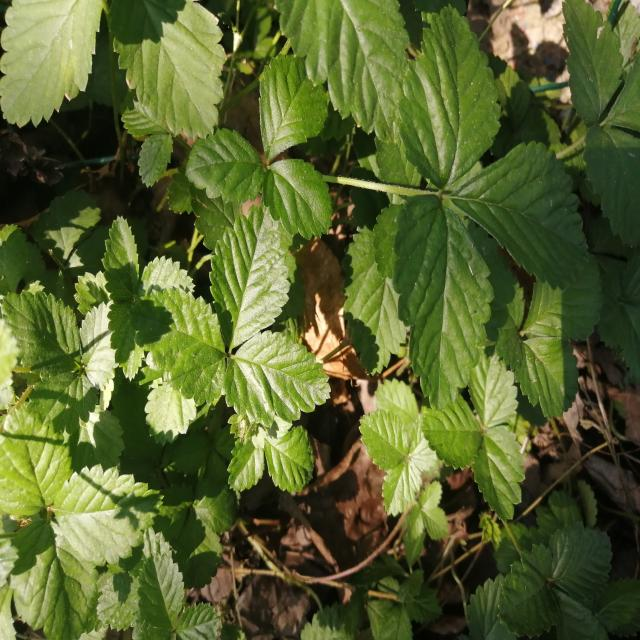Mock_strawberry: (386, 26, 594, 387), (1, 271, 168, 592), (155, 208, 329, 483), (366, 361, 556, 525)
